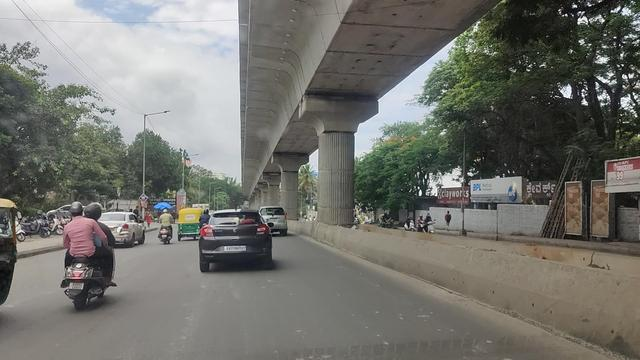LMV: (63, 197, 111, 314), (192, 207, 272, 276), (158, 208, 173, 242)
